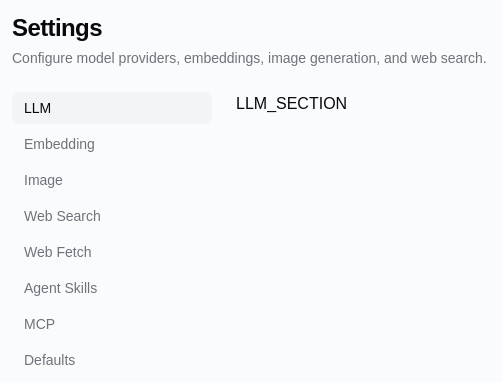
Test case: SettingsLayout › switches sections when a nav link is clicked
Click the link "Image" at x=43, y=180, box [24,172,63,188]
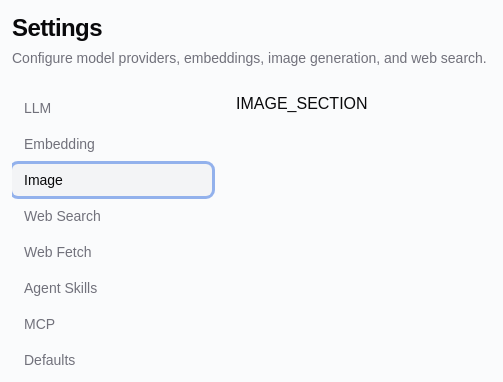
Expected: the text "IMAGE_SECTION" is shown, [236,95,368,112]
Click the link "Web Search" at x=62, y=216, box [24,208,101,224]
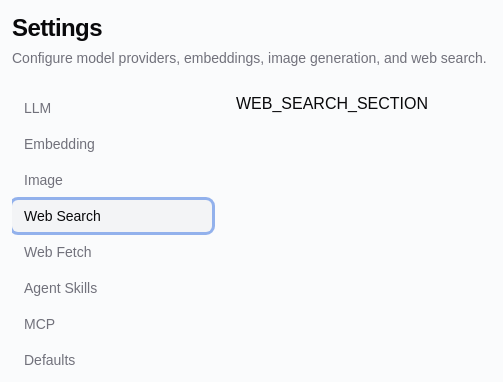
Expected: the text "WEB_SEARCH_SECTION" is shown, [236,95,428,112]
